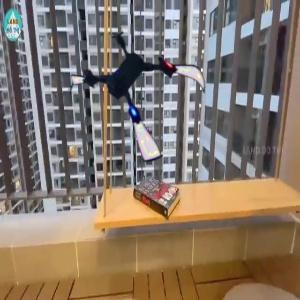drone: (73, 21, 214, 162)
